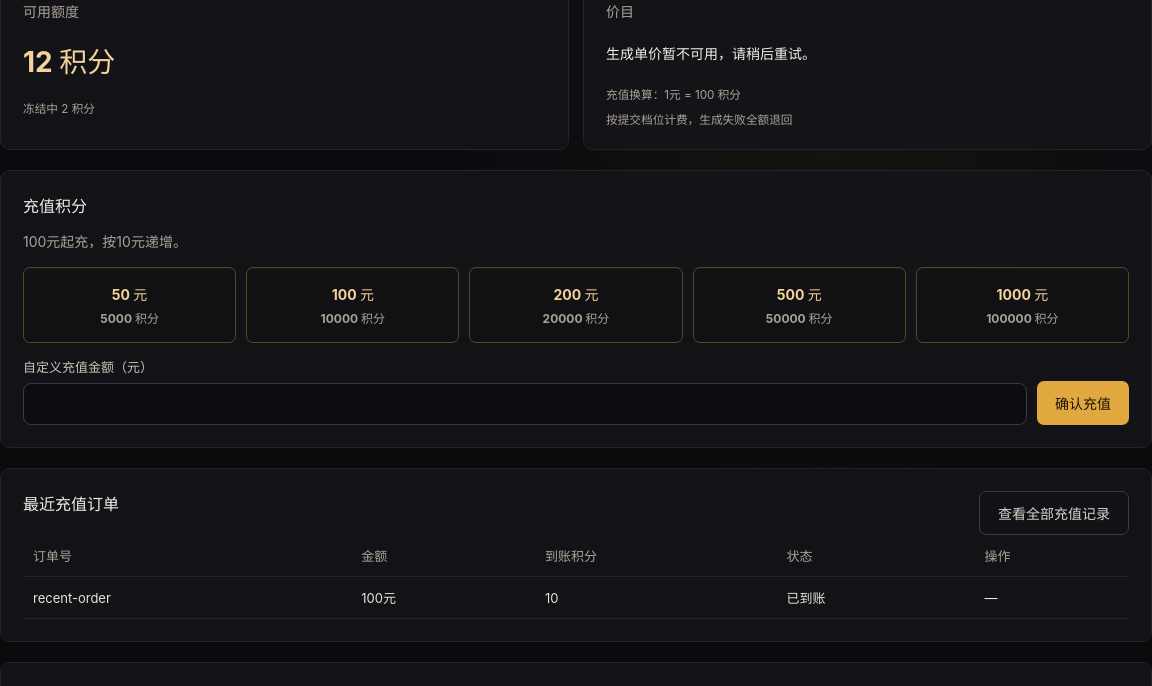
Test case: CustomerWalletPanel › reloads the latest history page after a delayed order creation
expect the text "recent-order" is shown: met, box left=23, top=576, right=351, bottom=618
Click the button "查看全部充值记录": (1054, 513) left=979, top=491, right=1129, bottom=535
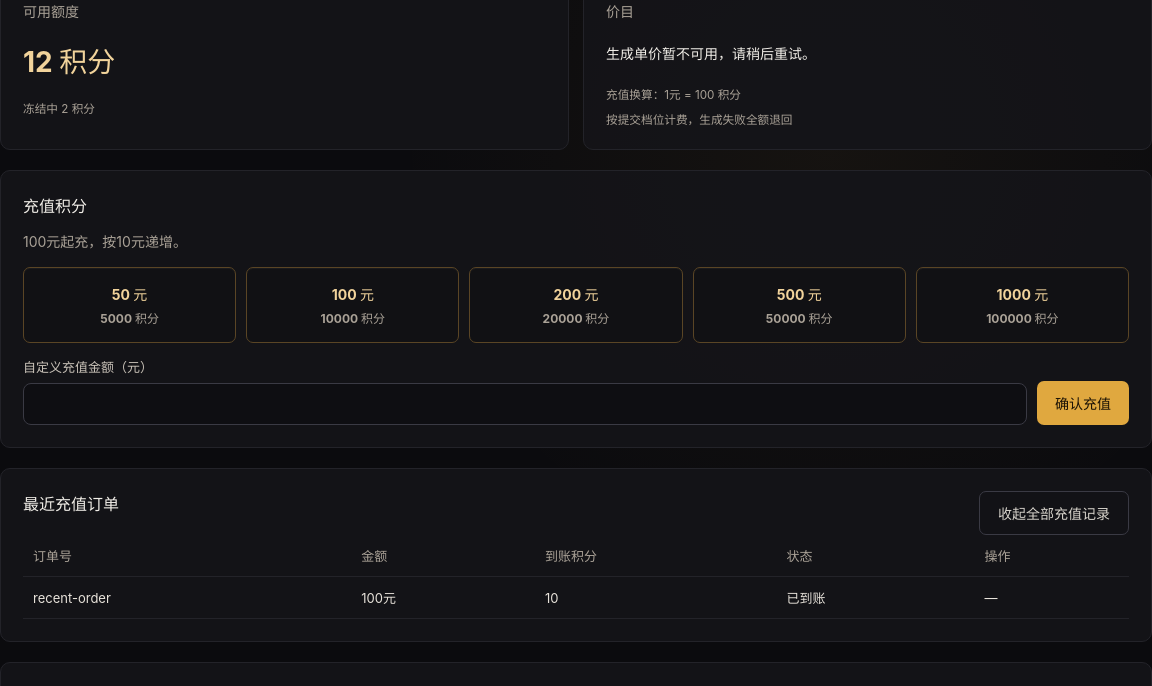
Click the button with aria-label "充值200元": (576, 305) left=469, top=267, right=683, bottom=343
(page scrolled)
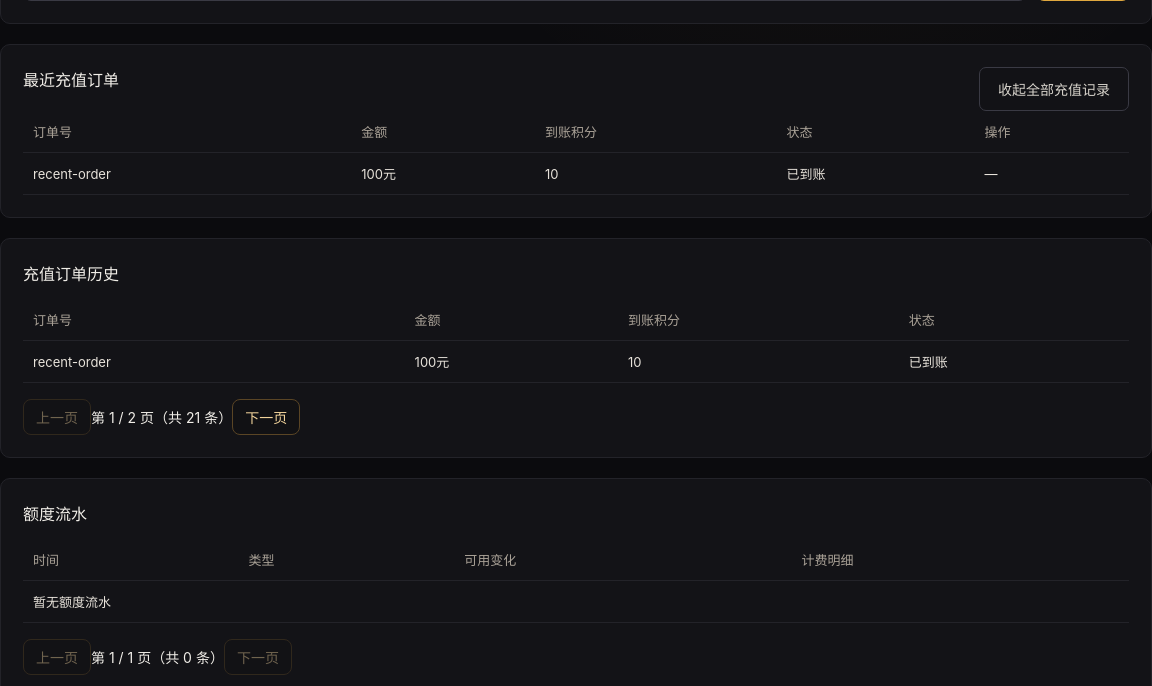
Click the button "下一页" next to "第 1 / 2 页（共 21 条）": (266, 417) left=232, top=399, right=300, bottom=435
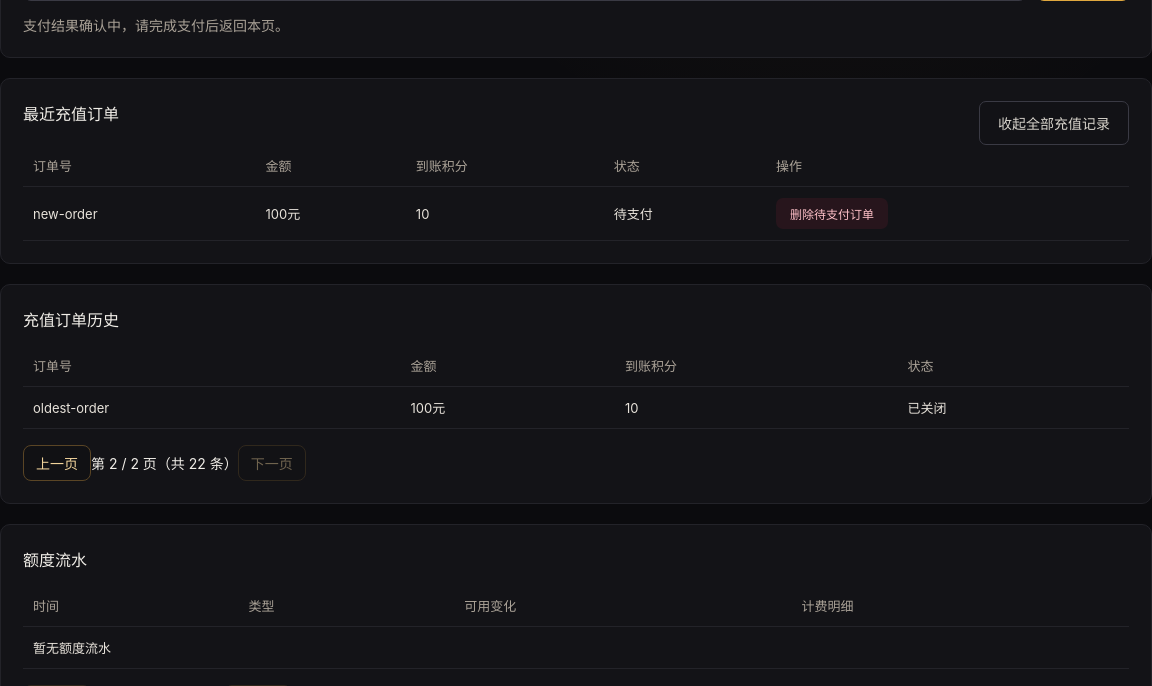
expect the text "oldest-order" is shown: met, box left=23, top=386, right=400, bottom=428
